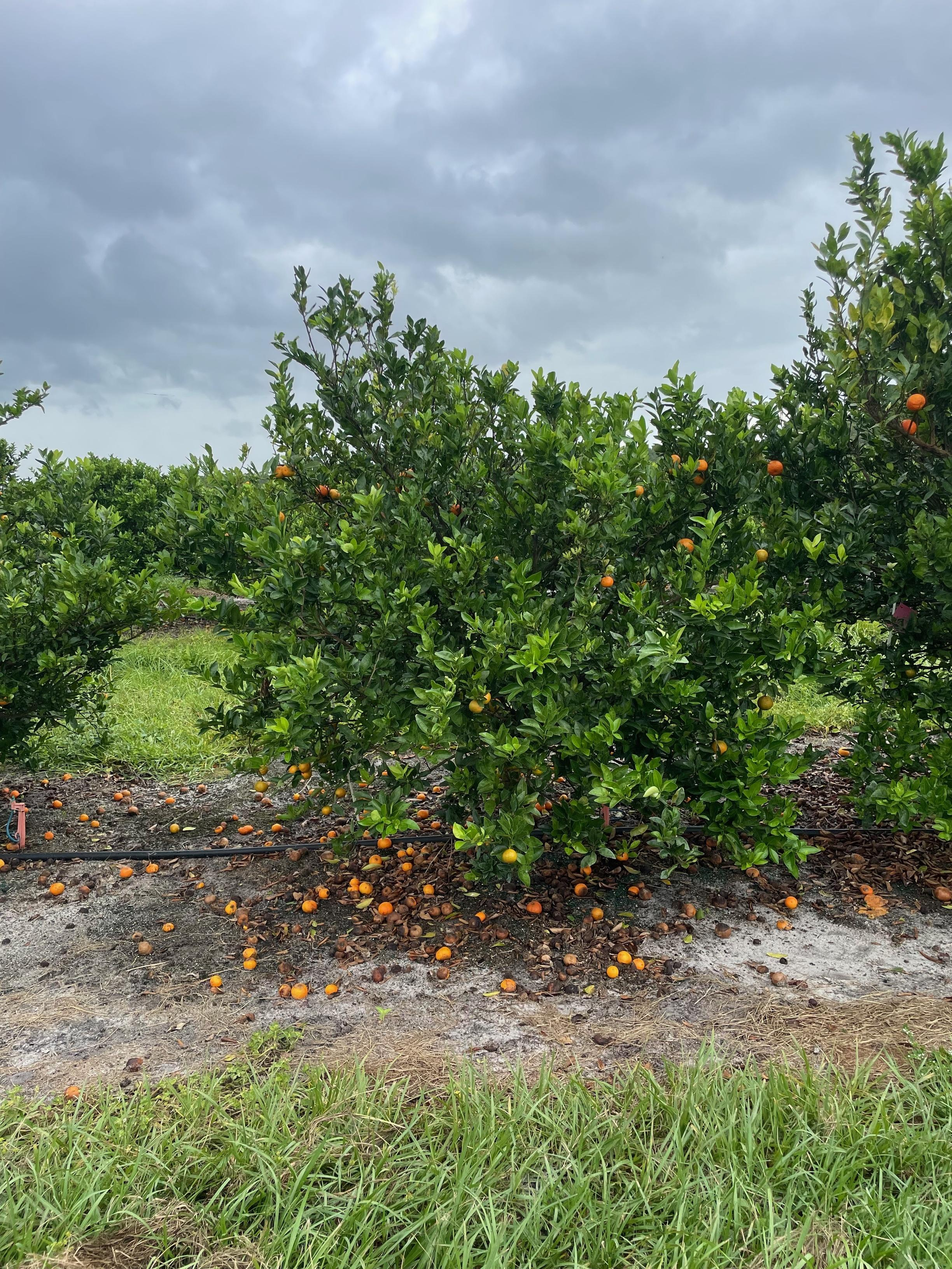fruit_on_ground: (904, 390, 929, 414), (897, 416, 920, 438), (764, 456, 786, 478), (674, 535, 697, 556), (709, 737, 730, 757), (499, 846, 519, 866), (466, 697, 486, 716), (752, 545, 771, 565), (756, 692, 775, 712), (693, 456, 711, 474), (397, 466, 416, 483), (632, 575, 650, 592), (475, 689, 493, 706), (598, 573, 616, 590), (253, 778, 270, 795), (690, 472, 708, 488), (314, 482, 330, 499), (632, 482, 648, 498), (667, 451, 683, 467), (271, 464, 287, 480), (280, 462, 296, 478), (614, 848, 631, 863), (902, 664, 918, 679), (297, 759, 313, 774), (448, 502, 464, 517), (667, 463, 684, 477), (327, 486, 342, 501), (333, 785, 347, 800), (287, 762, 301, 777), (256, 762, 270, 777), (299, 766, 313, 781), (0, 692, 14, 706), (320, 804, 334, 817), (274, 510, 287, 524)
fruit_on_tree: (932, 884, 952, 902), (769, 970, 788, 988), (714, 922, 733, 939), (63, 1083, 81, 1100), (525, 898, 543, 915), (499, 977, 518, 993), (292, 981, 308, 999), (680, 901, 697, 917), (590, 905, 606, 921), (784, 894, 800, 910), (616, 949, 633, 964), (435, 946, 452, 961), (572, 881, 589, 896), (300, 898, 317, 913), (136, 940, 153, 955), (857, 881, 873, 896), (369, 966, 384, 982), (744, 865, 761, 879), (377, 900, 394, 914), (48, 881, 65, 895), (632, 956, 647, 971), (223, 899, 238, 914), (208, 973, 223, 988), (703, 835, 719, 849), (444, 930, 460, 944), (408, 922, 424, 936), (358, 881, 374, 895), (421, 883, 436, 897), (439, 900, 454, 914), (436, 966, 451, 980), (242, 956, 257, 970), (605, 965, 620, 979), (324, 981, 339, 995), (118, 865, 133, 879), (277, 982, 291, 997), (775, 917, 791, 930), (639, 886, 653, 900), (626, 883, 640, 897), (347, 876, 361, 890), (563, 952, 578, 965), (655, 920, 670, 933), (376, 836, 391, 849), (367, 853, 382, 866), (145, 862, 160, 875), (404, 894, 418, 907), (161, 920, 175, 933), (837, 745, 852, 757), (633, 878, 646, 891), (581, 863, 594, 876), (317, 886, 330, 899), (495, 928, 509, 940), (474, 908, 488, 920), (78, 883, 92, 895), (242, 945, 256, 957), (401, 860, 415, 872), (238, 823, 253, 834), (686, 862, 699, 874), (288, 850, 301, 862), (205, 892, 218, 904), (430, 903, 442, 916), (259, 794, 273, 805), (35, 874, 49, 885), (126, 804, 140, 815), (415, 807, 429, 818), (408, 844, 421, 855), (290, 924, 303, 935), (271, 822, 284, 833), (51, 797, 64, 808), (0, 856, 10, 870), (532, 800, 544, 811), (196, 783, 208, 794), (61, 771, 73, 782), (44, 829, 56, 840), (431, 784, 442, 795), (746, 911, 757, 922), (543, 798, 554, 809), (169, 822, 180, 833), (0, 785, 12, 795), (430, 820, 442, 830), (218, 836, 230, 846), (396, 847, 408, 857), (164, 795, 176, 805), (77, 812, 89, 822), (112, 791, 124, 801), (415, 792, 428, 801), (307, 789, 318, 799), (121, 788, 132, 798), (292, 791, 303, 801), (212, 824, 223, 834), (95, 804, 106, 814), (178, 785, 190, 794), (319, 834, 329, 844), (230, 813, 240, 823), (9, 788, 20, 797), (262, 839, 273, 848), (40, 776, 51, 785), (195, 879, 206, 888), (326, 830, 337, 839), (357, 779, 367, 788), (380, 767, 390, 776), (219, 820, 229, 829), (90, 820, 100, 829)
